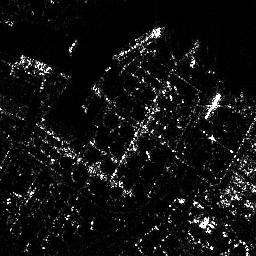ship: (110, 24, 166, 62), (16, 55, 54, 75), (203, 90, 222, 121)
